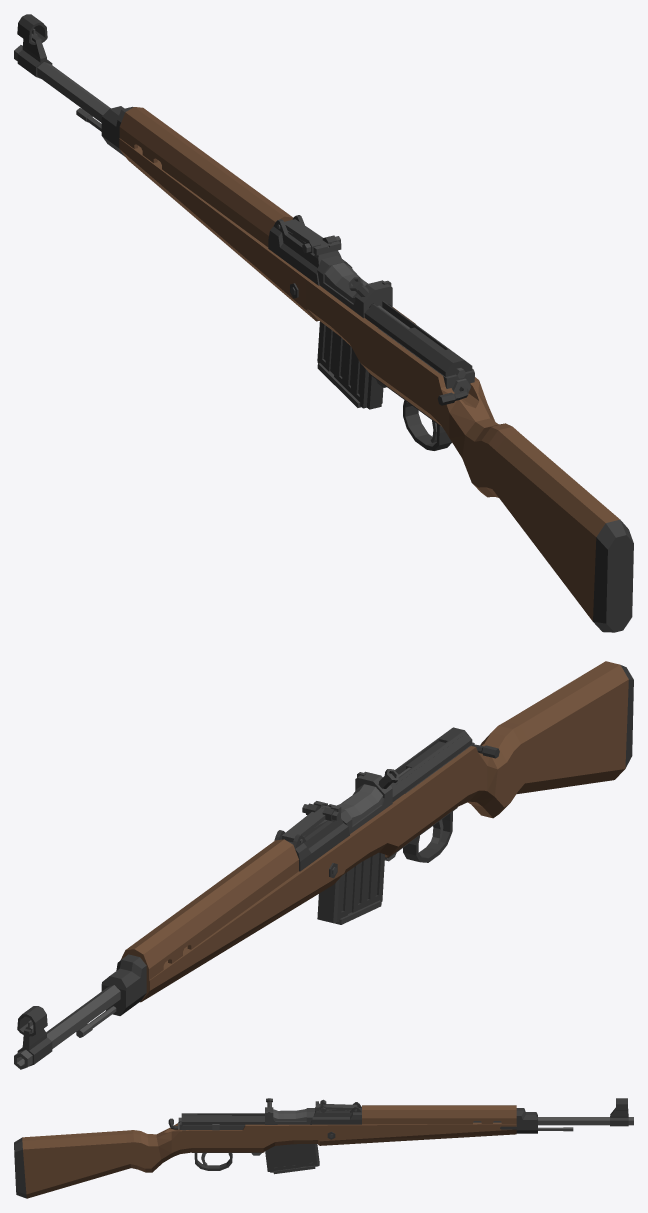
3 renders of one model, top to bottom at view 1: azimuth 30°, elevation 25°; view 2: azimuth 150°, elevation 25°; view 3: azimuth 270°, elevation 25°, orthographic. The views are drawn at different scales.
Visible parts, largest first — view 1: gewehr-43; view 2: gewehr-43; view 3: gewehr-43.
Boxes of the visible parts, x1,y1,x2,y2 form: gewehr-43: [14, 14, 633, 632]; gewehr-43: [14, 661, 633, 1069]; gewehr-43: [14, 1098, 633, 1198].
Size of the model in its own units: 0.054 by 0.1975 by 1.13.
